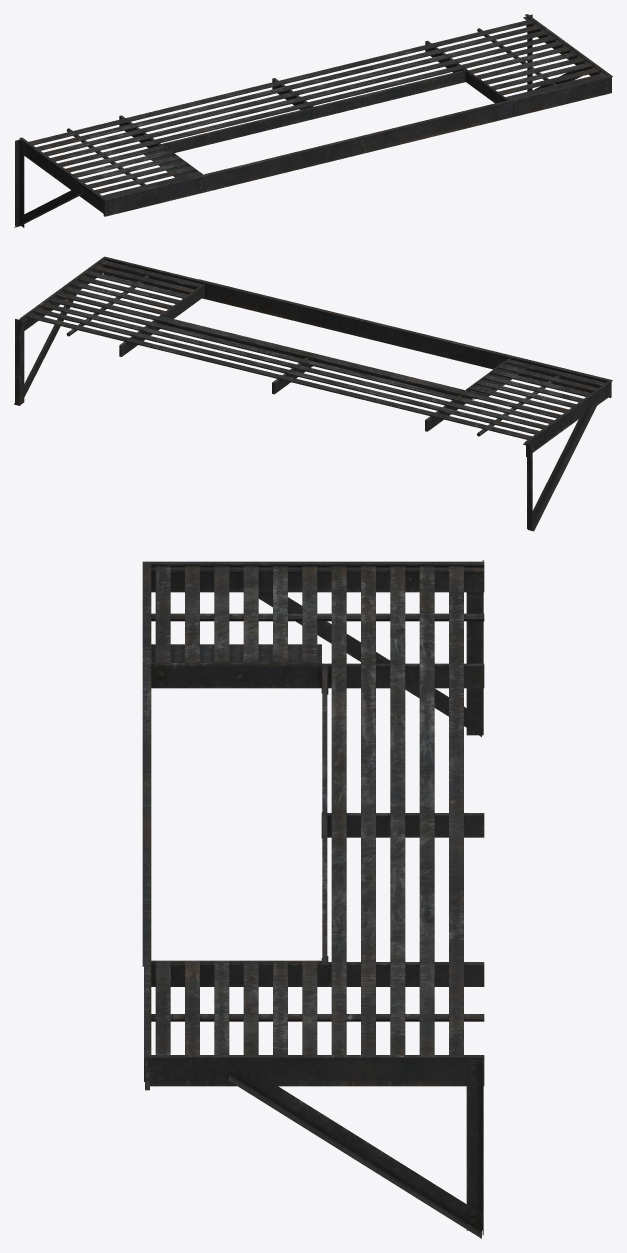
Rendered from yangin_platform_b.gltf.
3 renders of one model, top to bottom at view 1: azimuth 30°, elevation 25°; view 2: azimuth 150°, elevation 25°; view 3: azimuth 270°, elevation 25°, orthographic. The views are drawn at different scales.
Visible parts, largest first — view 1: yangin_platform_b; view 2: yangin_platform_b; view 3: yangin_platform_b.
Boxes of the visible parts, x1,y1,x2,y2 form: yangin_platform_b: (14,14,612,227); yangin_platform_b: (14,256,612,531); yangin_platform_b: (142,560,484,1238).
Size of what is drawn, in the model's own units: 4.79 by 0.7724 by 1.36.
1 material, 1 textured.
